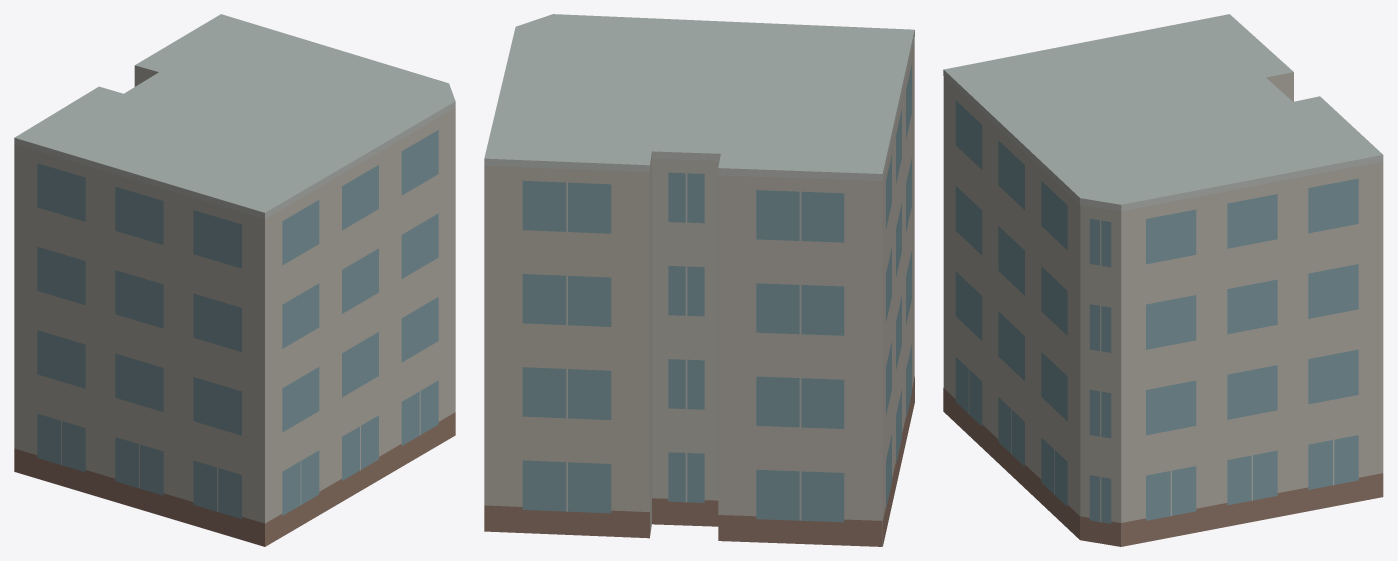
File: survey-upis-32704705.glb
3 renders of one model, left to right at view 1: azimuth 30°, elevation 25°; view 2: azimuth 150°, elevation 25°; view 3: azimuth 270°, elevation 25°, orthographic. The views are drawn at different scales.
Visible parts, largest first — view 1: survey-upis-32704705.tmp; view 2: survey-upis-32704705.tmp; view 3: survey-upis-32704705.tmp.
Boxes of the visible parts, x1,y1,x2,y2 form: survey-upis-32704705.tmp: (14,14,455,546); survey-upis-32704705.tmp: (484,14,914,546); survey-upis-32704705.tmp: (943,14,1383,546).
Bounding box in the file's own units: 15.38 × 12.85 × 14.99.
